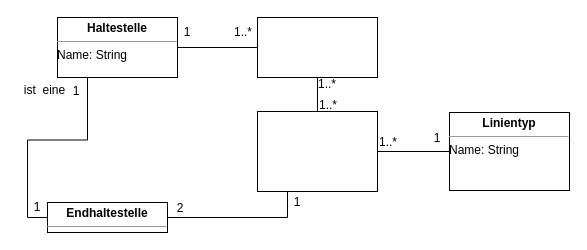
This 587x250 diagram has some shape labels left out. The box of each missing label's shape, as (x1, y1, x2, y2) in pixels:
Haltepunkt Adresse: String: (256, 16, 378, 78)
Linie Nummer: Integer Farbe: Color Typ: Integer: (256, 110, 378, 192)
